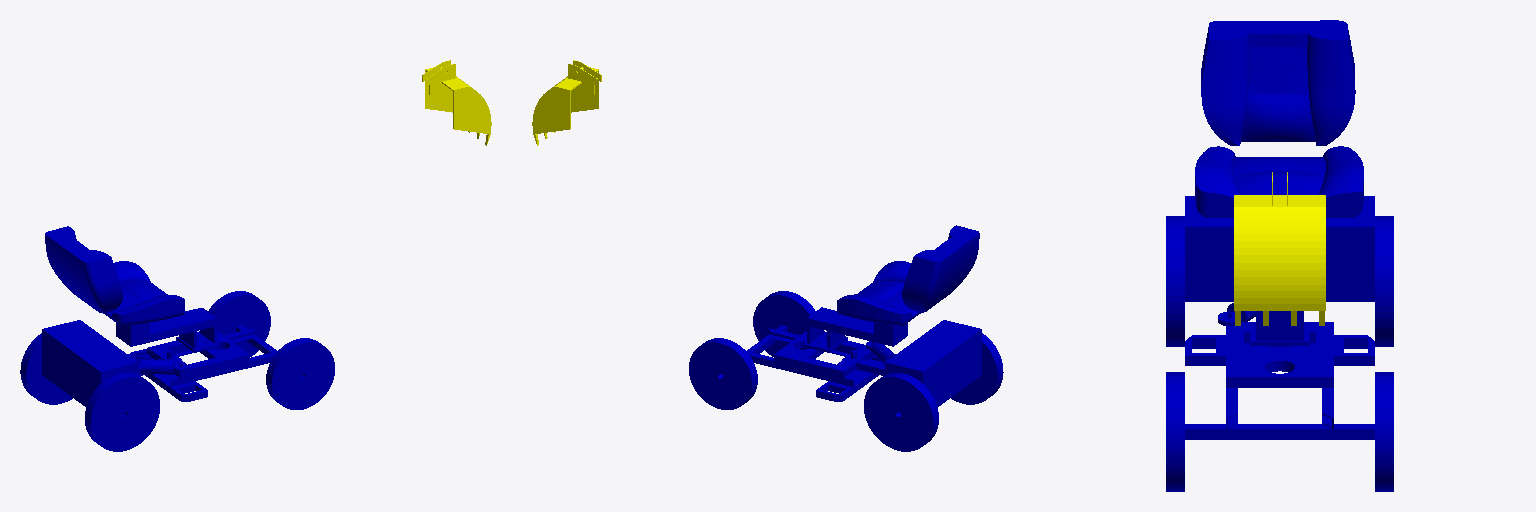
URDF robot description (Machine):
<?xml version="1.0"?>
<robot name="Machine">

  <material name="blue">
    <color rgba="0 0 0.8 1"/>
  </material>

  <material name="white">
    <color rgba="1 1 1 1"/>
  </material>

  <material name="yellow">
    <color rgba="1 1 0 1"/>
  </material>

  <material name="grey">
    <color rgba="0.66 0.66 0.66 1"/>
  </material>

  <link name="world"/>
  
  <link name="base">
    <visual>
	  <geometry>
	  	<mesh filename="package://autonomous_excavator/urdf/meshes/hydraulic/Base.STL" scale="0.001 0.001 0.001" />
	  </geometry>
      <material name="blue"/>
    </visual>
  </link>
  
  <link name="swing">
  </link>
  
  <link name="boom">
    <visual>
	  <geometry>
	  	<mesh filename="package://autonomous_excavator/urdf/meshes/hydraulic/Boom.STL" scale="0.001 0.001 0.001" />
	  </geometry>
      <material name="yellow"/>
    </visual>
  </link>

  <link name="arm">
    <visual>
	  <geometry>
	  	<mesh filename="package://autonomous_excavator/urdf/meshes/hydraulic/Arm.STL" scale="0.001 0.001 0.001" />
	  </geometry>
      <material name="yellow"/>
    </visual>
  </link>

  <link name="bucket">
    <visual>
	  <geometry>
	  	<mesh filename="package://autonomous_excavator/urdf/meshes/hydraulic/Bucket.STL" scale="0.001 0.001 0.001" />
	  </geometry>
      <material name="yellow"/>
    </visual>
  </link>

  <joint name="fix" type="fixed">
    <origin xyz="0 0 0.4" rpy="0 0 0" />
  	<parent link="world"/>
  	<child link="base"/>
  </joint>
  
  <joint name="Swing" type="continuous">
    <axis xyz="0.0 0.0 1.0" />
    <parent link="base"/>
    <child link="swing"/>
  </joint>

  <joint name="Boom" type="continuous" >
    <axis xyz="0.0 1.0 .0" />
    <origin xyz="0.2548 0 0.247" rpy="0 0 0" />
    <parent link="swing"/>
    <child link="boom"/>
  </joint>

  <joint name="Arm" type="continuous">
    <axis xyz="0.0 1.0 .0" />
	<origin xyz="0.503 0 1.381" rpy="0 0 0" />
    <parent link="boom"/>
    <child link="arm"/>
  </joint>

  <joint name="Bucket" type="continuous">
    <axis xyz="0.0 1.0 .0" />
	<origin xyz="0.880 0 0" rpy="0 0 0" />
    <parent link="arm"/>
    <child link="bucket"/>
  </joint>

</robot>

--- Render facts (derived) ---
Views: 3 orthographic renders of the robot side by side, from view 1: azimuth 30°, elevation 25°; view 2: azimuth 150°, elevation 25°; view 3: azimuth 270°, elevation 25°.
Model Machine with 6 links and 5 joints (4 continuous, 1 fixed), rooted at world, posed every joint at zero.
Visible links, largest first — view 1: base, bucket; view 2: base, bucket; view 3: base, bucket.
Link boxes in pixels (<box>): base: <box>20,226,334,451</box>; bucket: <box>422,60,491,145</box>; base: <box>689,225,1003,451</box>; bucket: <box>532,60,601,145</box>; base: <box>1166,20,1393,491</box>; bucket: <box>1234,172,1325,325</box>.
Size in the robot's own frame: 3.33 by 0.96 by 2.09 metres.
2 mesh visuals loaded from 4 distinct referenced files (2 binary STL); not drawn: 2 (reference not matched to a file when rendering).